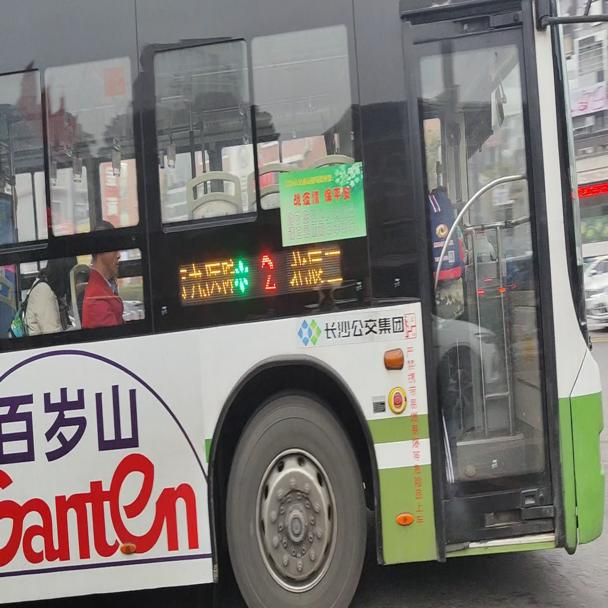bus: (3, 5, 605, 603)
screen: (252, 244, 286, 294)
